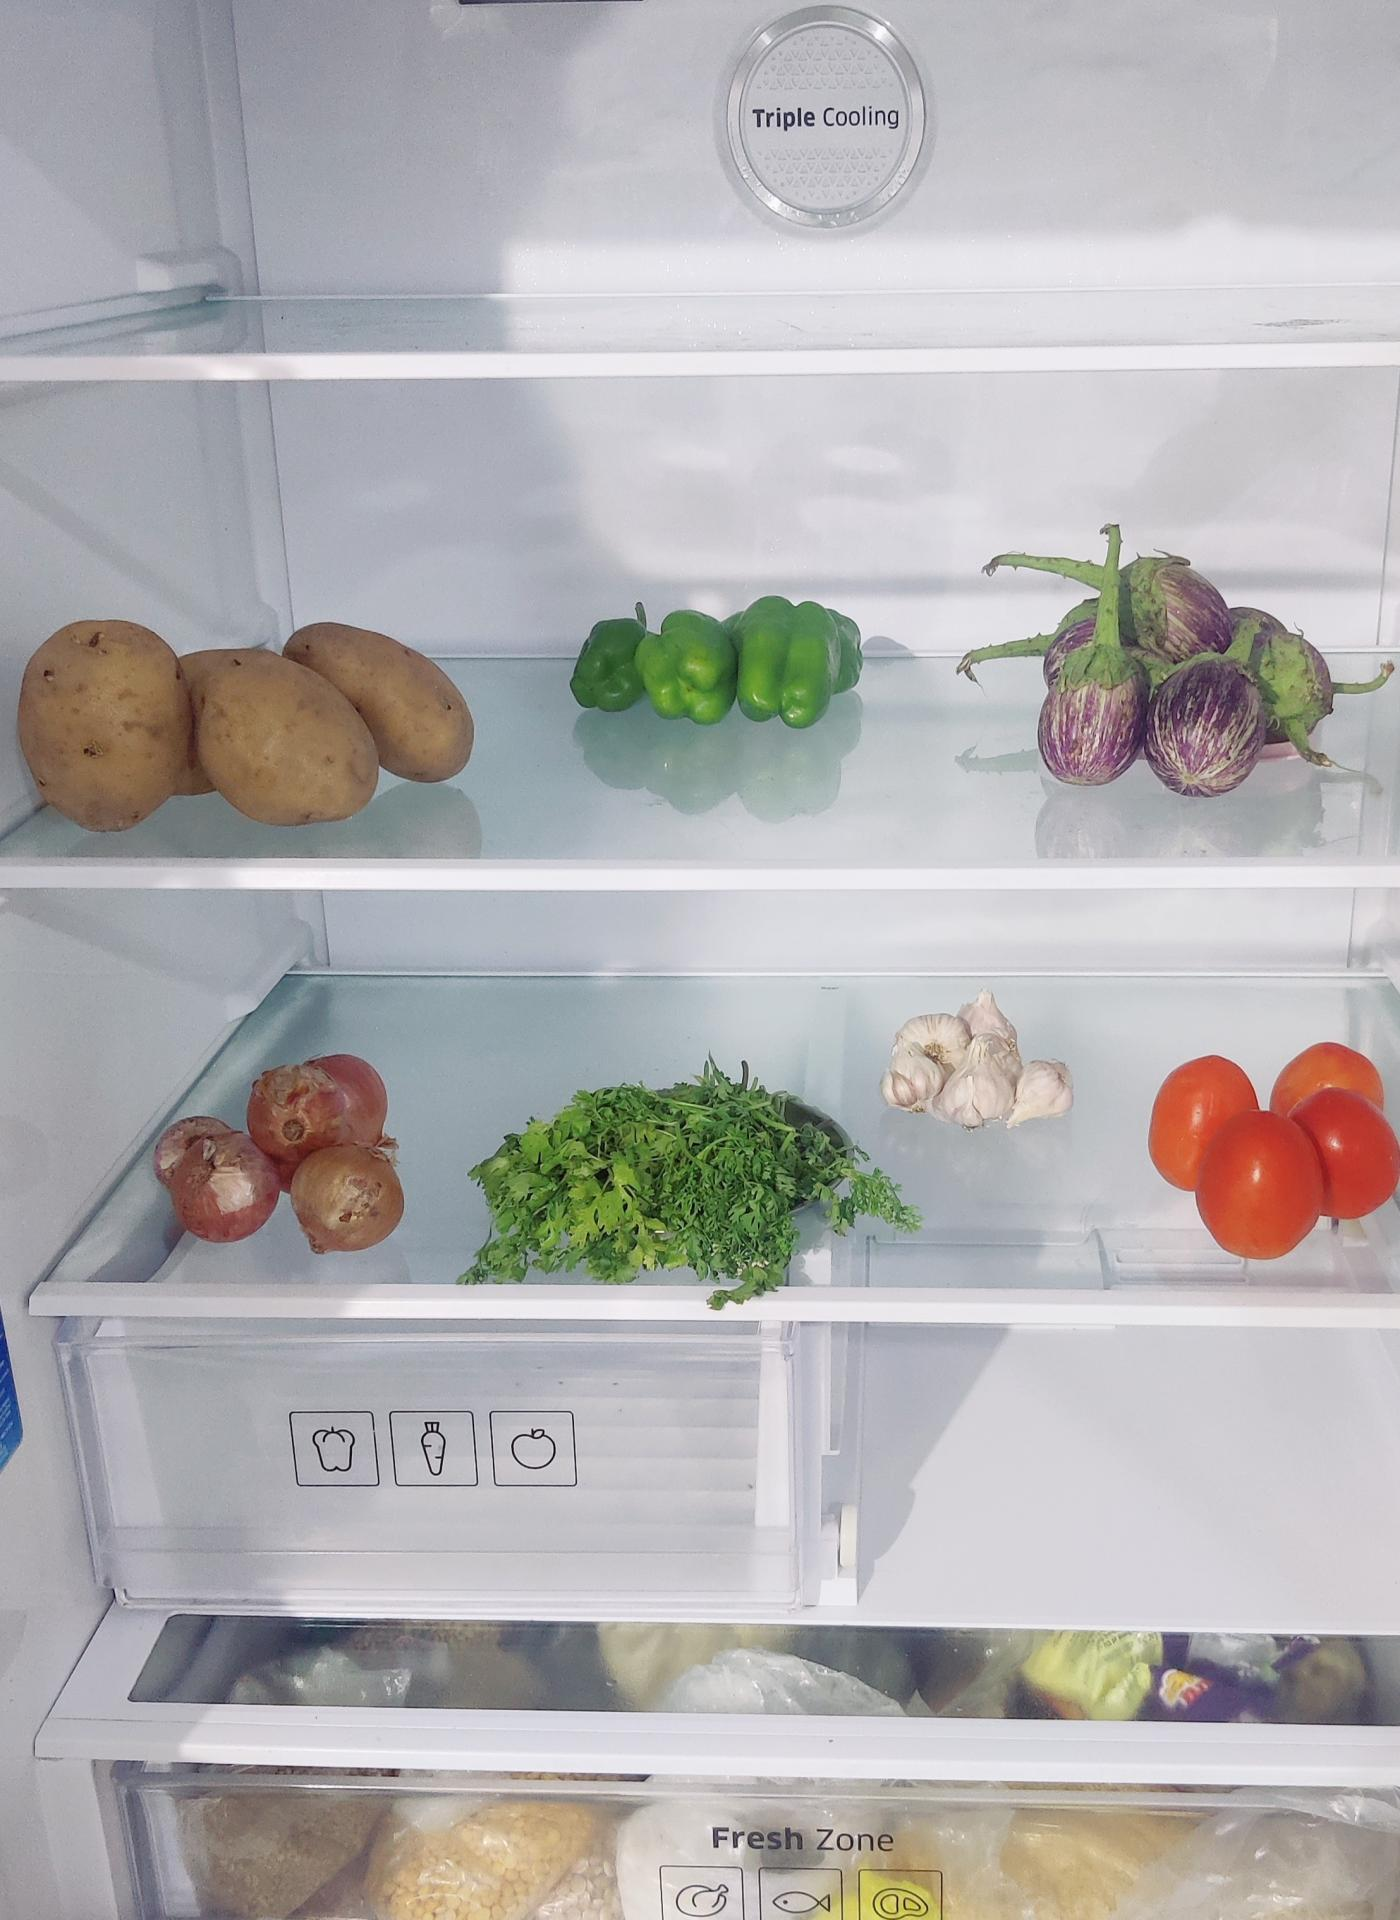brinjal: (1014, 534, 1327, 795)
capsicum: (573, 595, 869, 729)
coriander: (465, 1079, 896, 1286)
garlic: (886, 990, 1073, 1128)
onion: (158, 1049, 413, 1254)
potato: (15, 608, 471, 824)
tomato: (1147, 1036, 1400, 1255)
